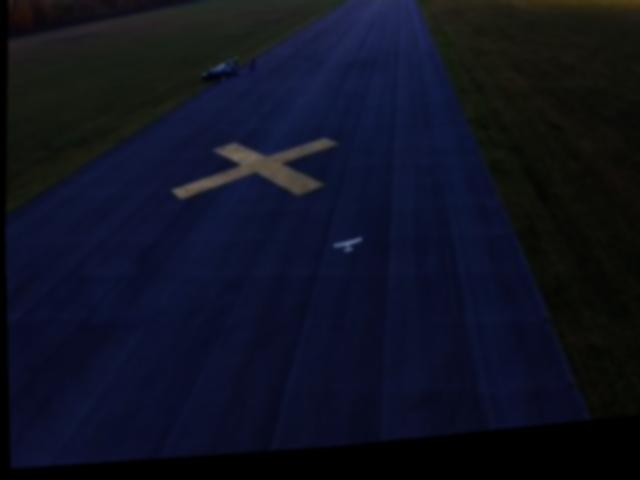uav: (329, 244, 364, 263)
